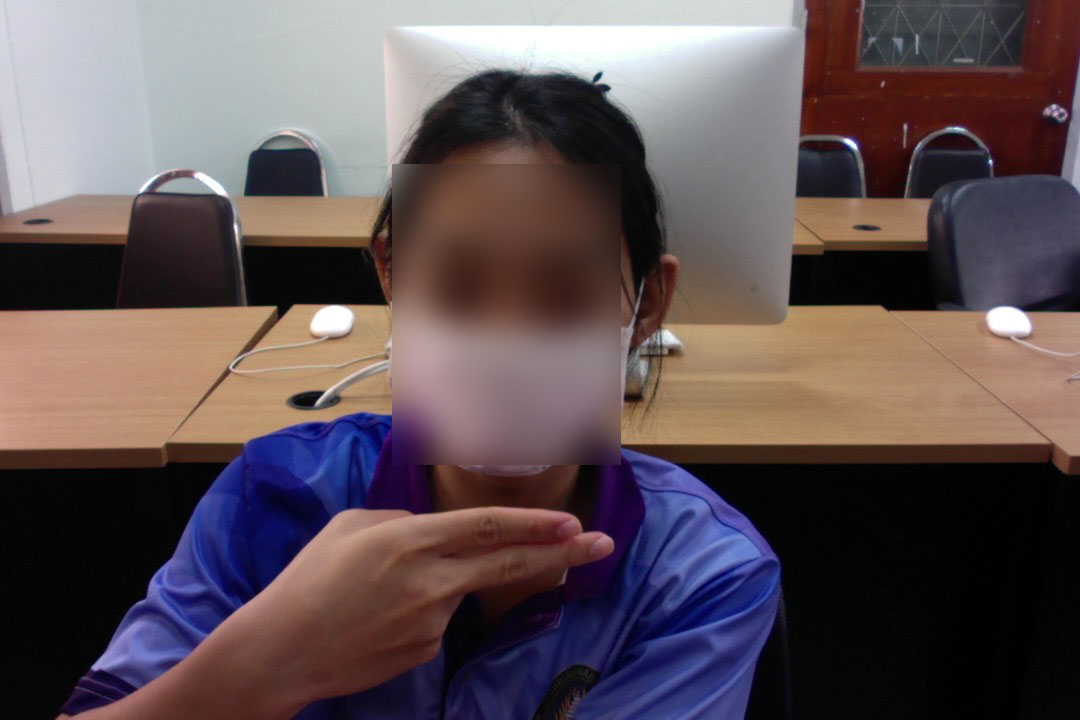hor: (262, 499, 619, 710)
